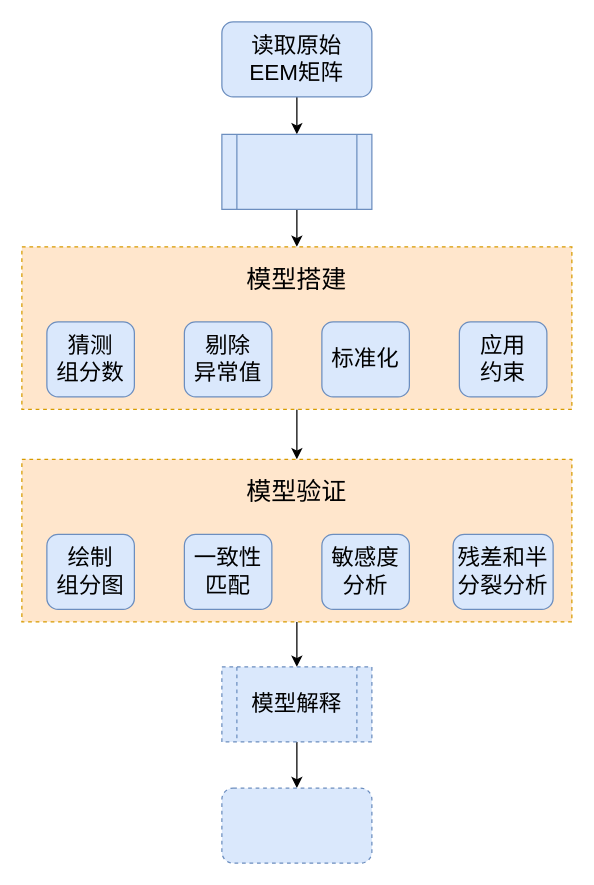
Some shapes in this 594 by 885 pixel diagram are drawn without their labels. Here are the shapes that lost their labels. From the top down, the centre of each, then its label:
At [296,171]: "平滑滤波".
At [296,825]: "结果导出".
